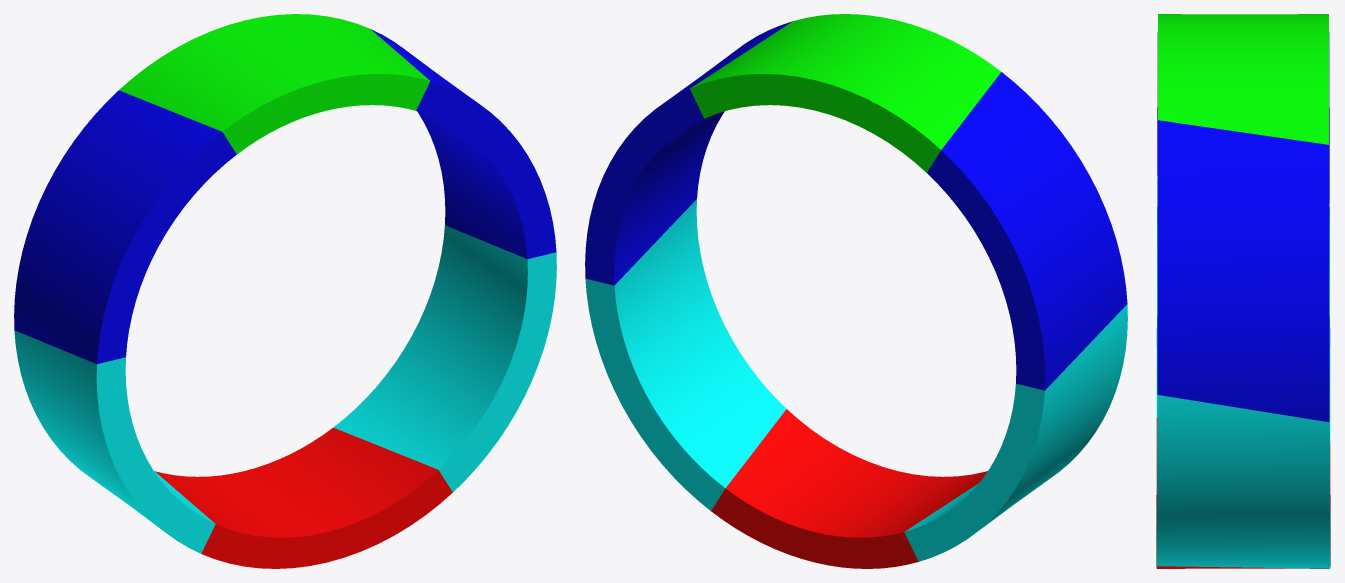
Rendered from CI_ring.obj.
3 renders of one model, left to right at view 1: azimuth 30°, elevation 25°; view 2: azimuth 150°, elevation 25°; view 3: azimuth 270°, elevation 25°, orthographic. The views are drawn at different scales.
Size of the model in its own units: 5.15 by 5.15 by 1.62.
